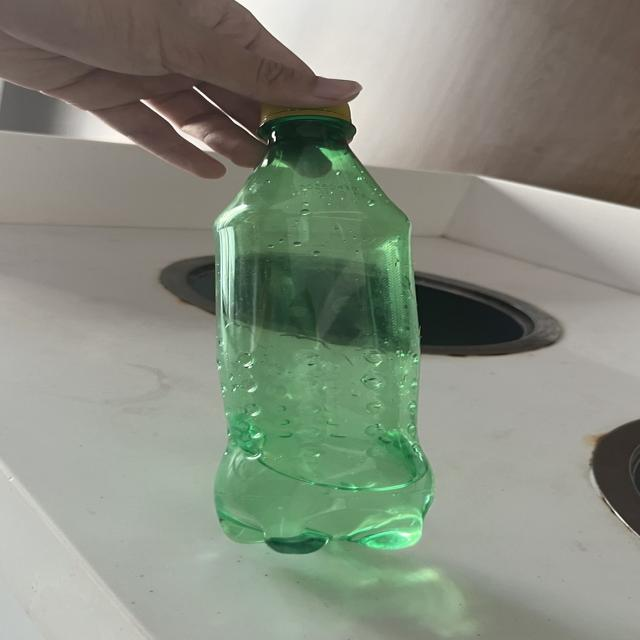low: (215, 106, 433, 553)
